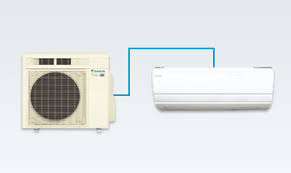ac: (148, 63, 279, 120)
